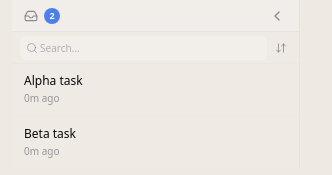
ScratchPool › search filters scratch titles
In the field named "Search scratches": point(144, 48) left=20, top=36, right=267, bottom=60, type "alpha"
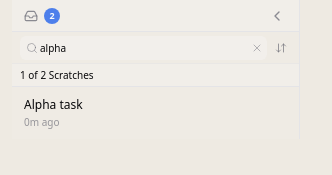
Expected: the text "Alpha task" is shown, left=24, top=96, right=83, bottom=112
Now the button "Beta task" is gone
